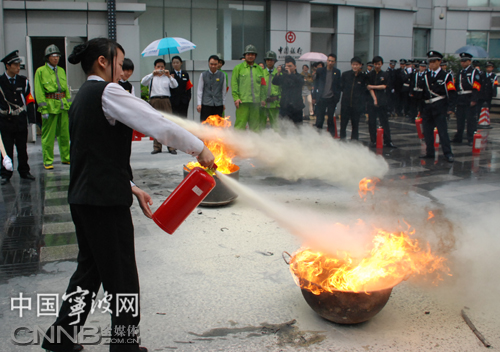fire: (290, 197, 433, 298), (191, 107, 247, 174)
